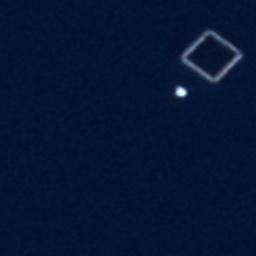square_solid: (176, 23, 246, 86)
